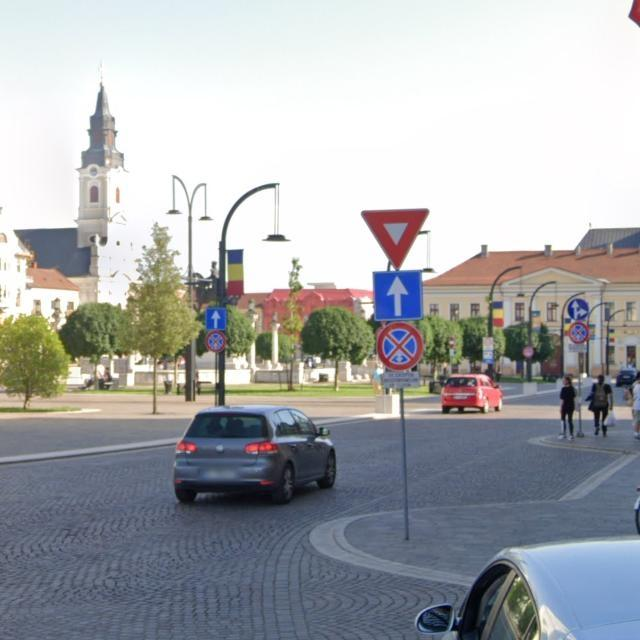forb_waiting: (376, 321, 424, 371), (567, 321, 589, 345), (206, 331, 227, 353)
prio_give_way: (361, 206, 430, 269)
